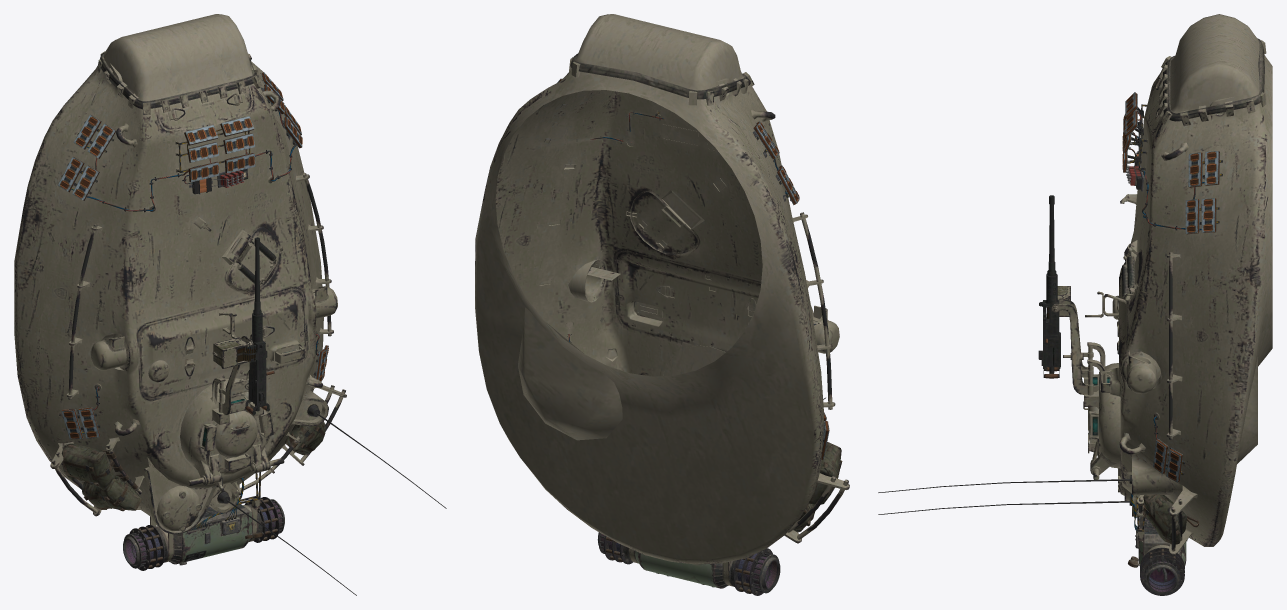
Rendered from Turret_02.glb.
The picture shows the model from 3 angles, left to right: view 1: azimuth 30°, elevation 25°; view 2: azimuth 150°, elevation 25°; view 3: azimuth 270°, elevation 25°; orthographic projection. The views are drawn at different scales.
Visible parts, largest first — view 1: set_0_group_0, set_0_group_1; view 2: set_0_group_0, set_0_group_1; view 3: set_0_group_0, set_0_group_1.
Part boxes in pixels (bbox=[...]): set_0_group_0: bbox=[14, 14, 446, 595]; set_0_group_1: bbox=[57, 72, 328, 570]; set_0_group_0: bbox=[475, 14, 849, 564]; set_0_group_1: bbox=[544, 78, 829, 595]; set_0_group_0: bbox=[878, 14, 1272, 554]; set_0_group_1: bbox=[1122, 92, 1222, 595].
Size of the model in its own units: 3.04 by 4.87 by 3.3.
2 materials, 2 textured.
